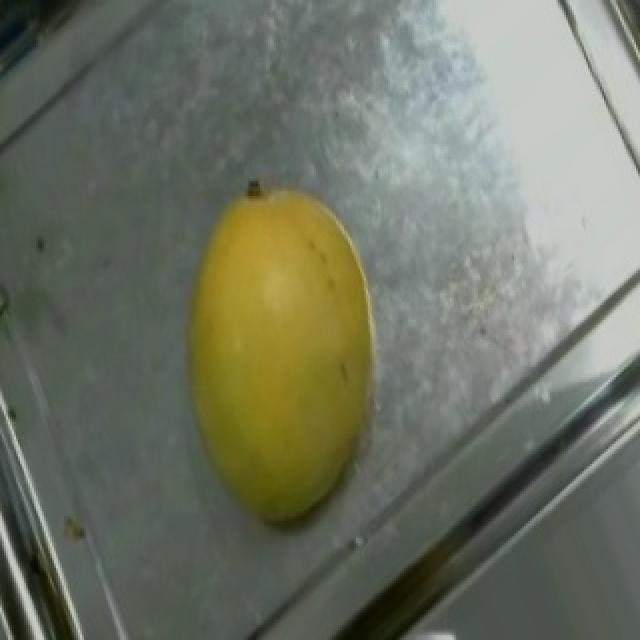fruit: (128, 148, 466, 560)
